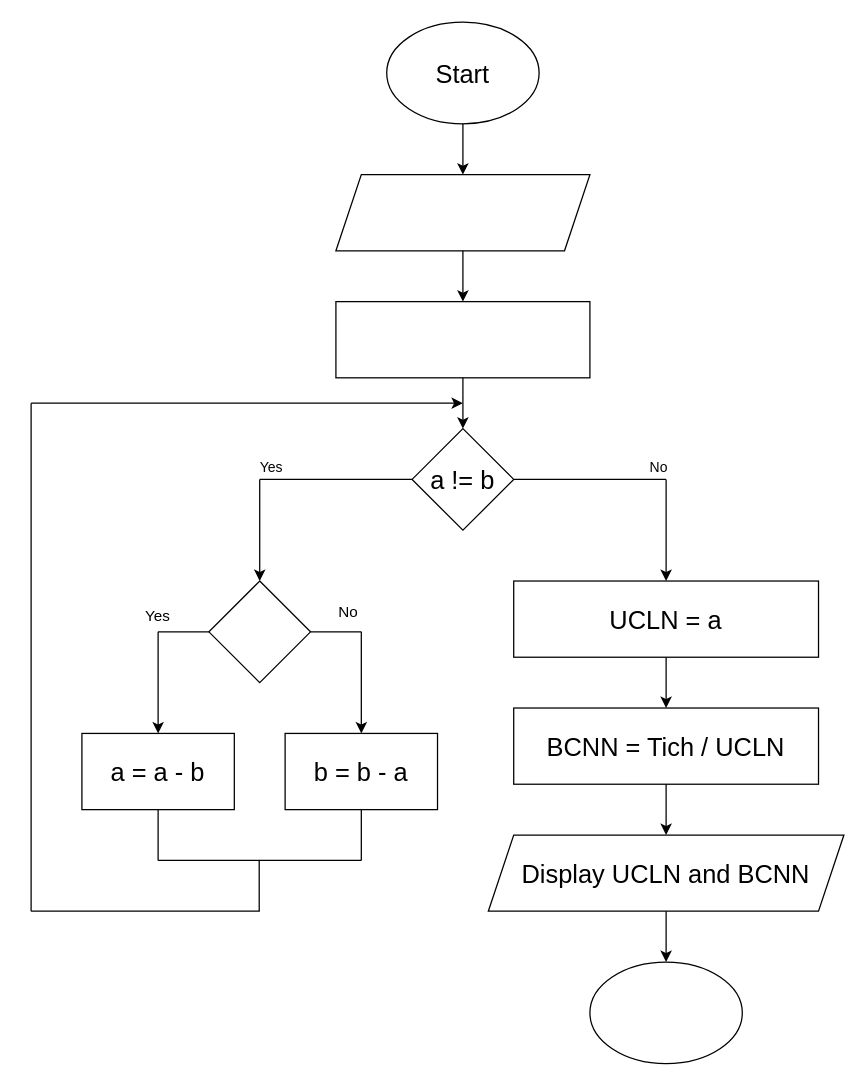
This 866x1086 diagram has some shape labels left out. The box of each missing label's shape, as (x1, y1, x2, y2) in pixels:
a > b: (208, 580, 311, 683)
Input a, b: (335, 173, 590, 251)
Stop: (589, 961, 742, 1064)
Tich = a * b: (335, 300, 590, 378)
